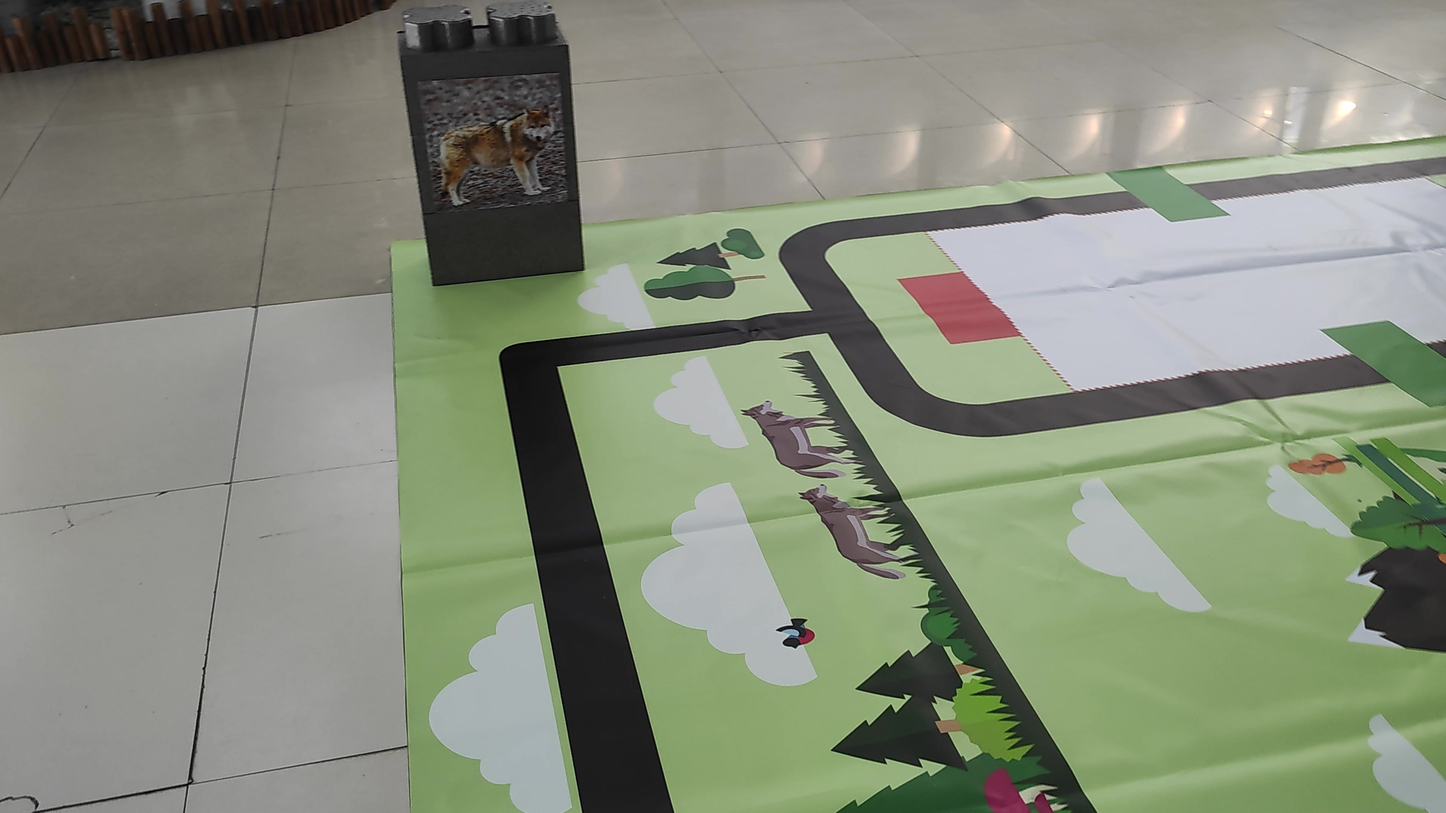wolf: (426, 72, 575, 214)
